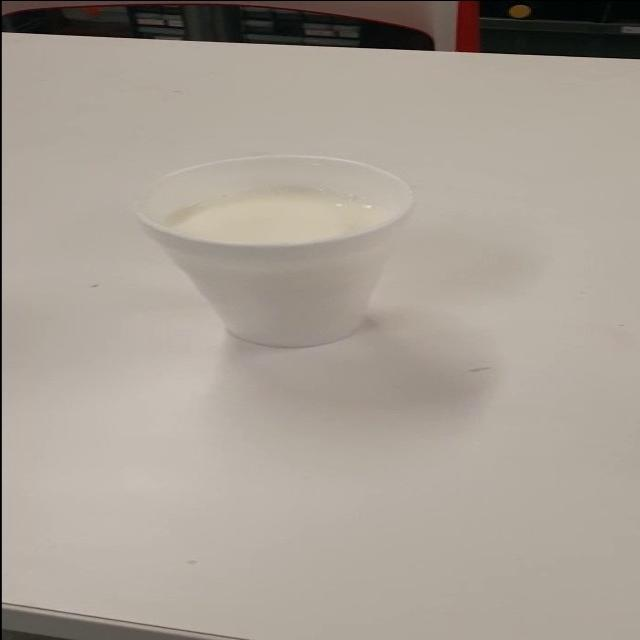Milk: (130, 150, 469, 378)
